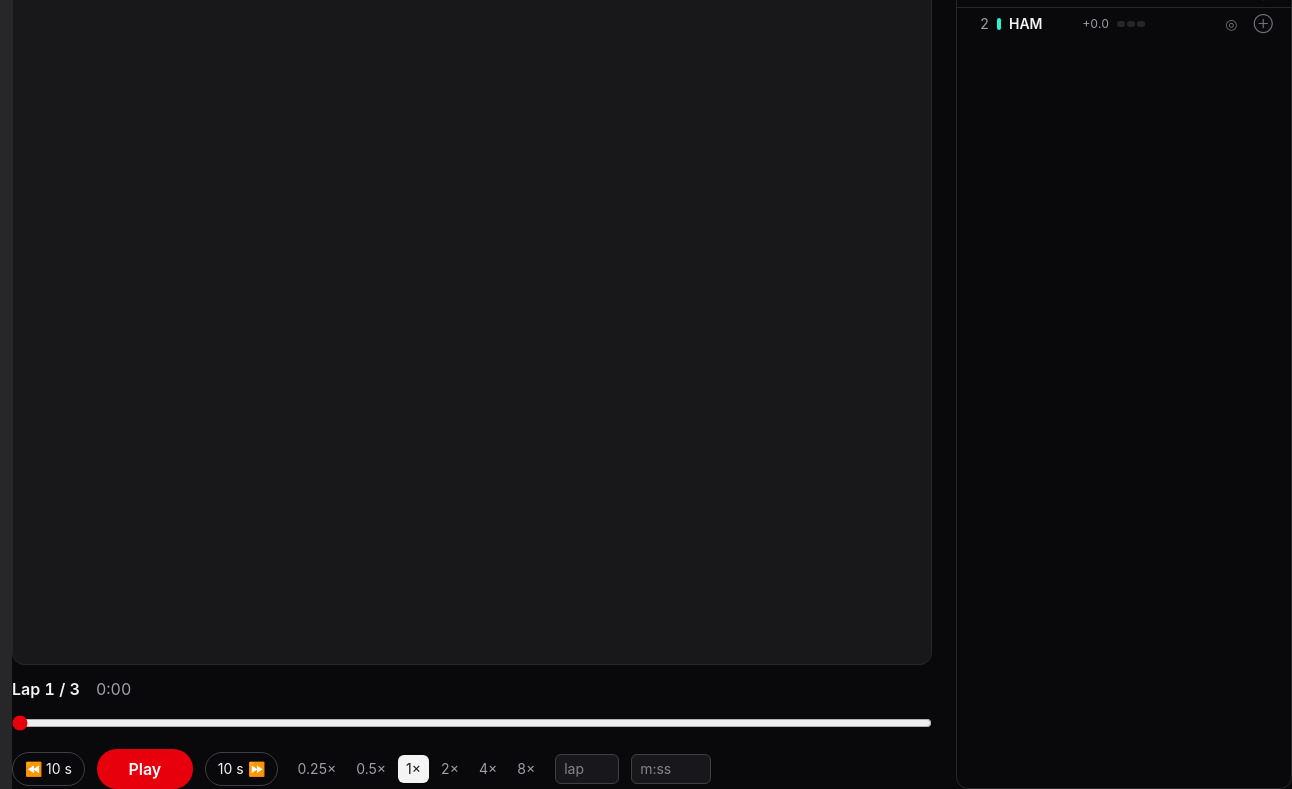
Test: play moves the dots along the track; pause freezes them
(page scrolled)
Click the button "Play".
click(145, 768)  # box [97, 748, 193, 788]
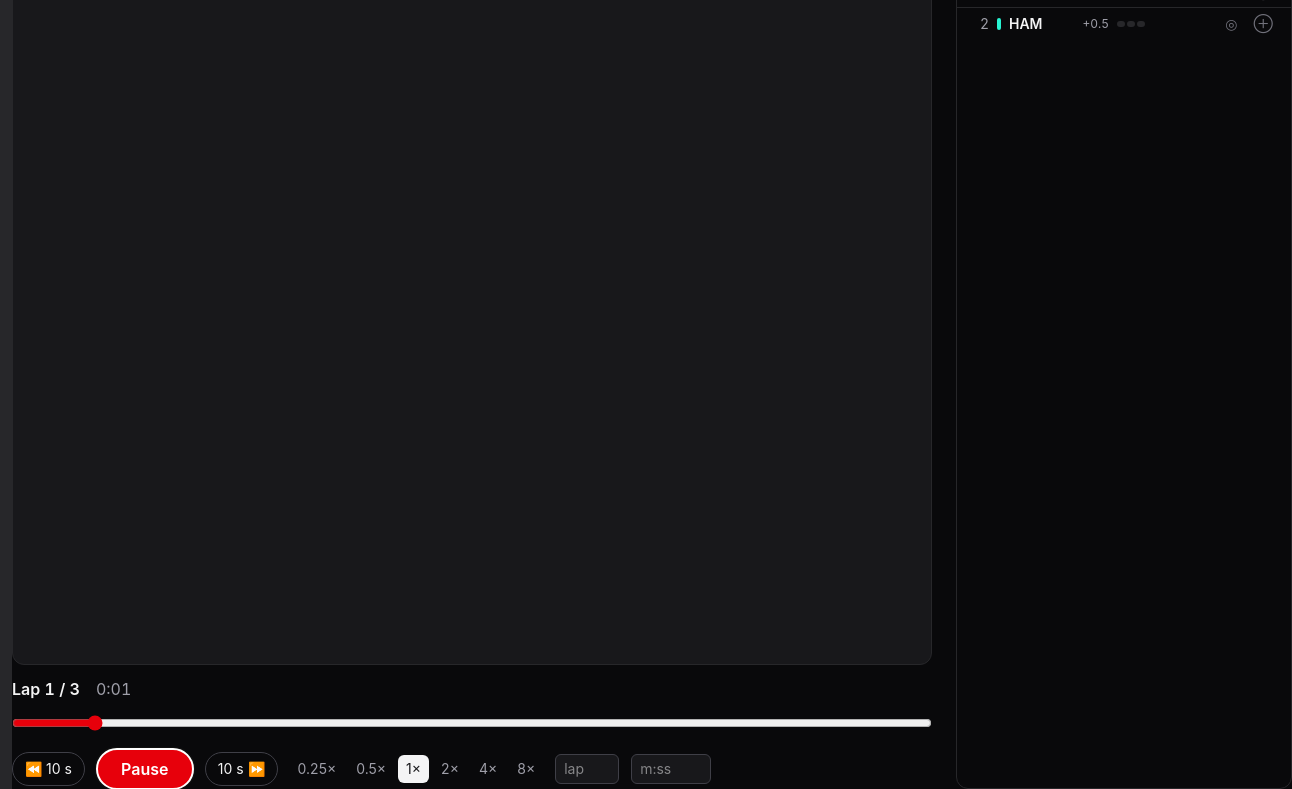
Click the button "Pause".
click(145, 768)  # box [97, 748, 193, 788]
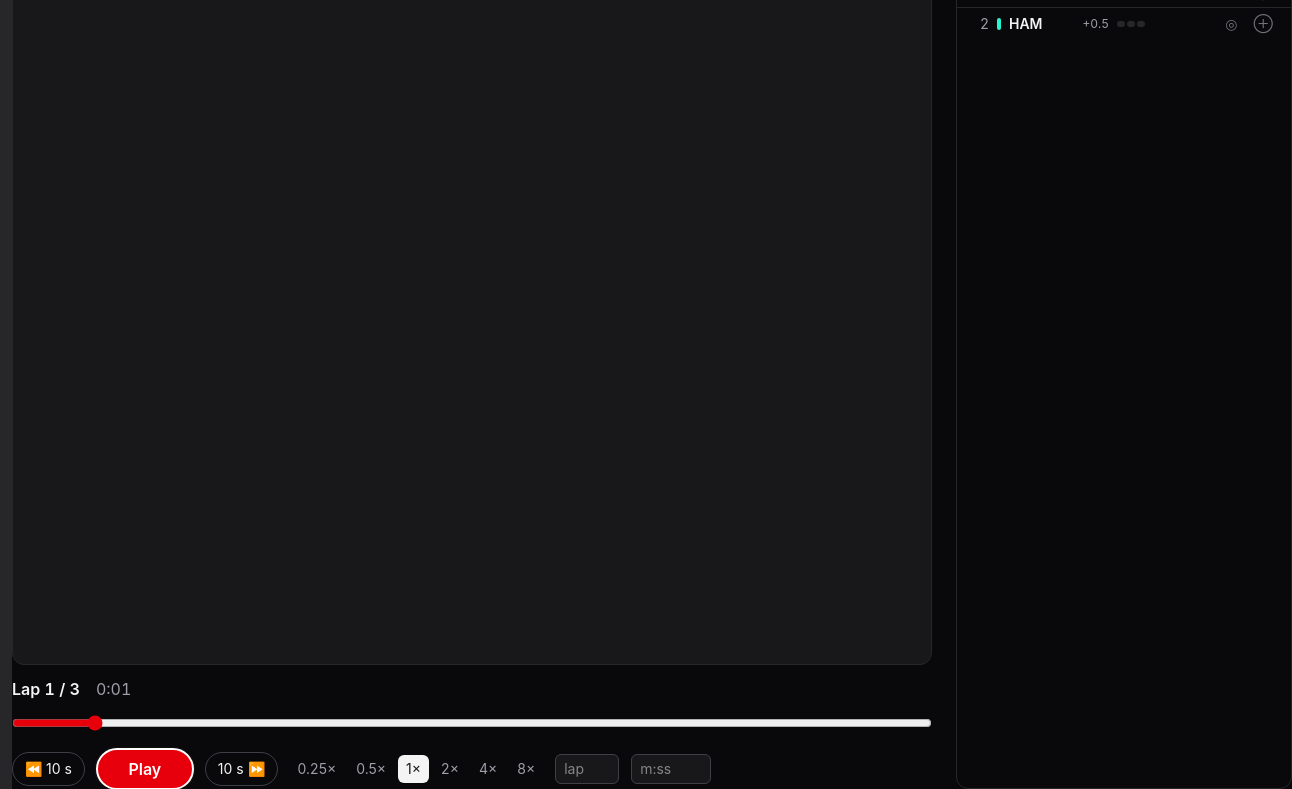
Check: the button "Play" is shown, box [97, 748, 193, 788]
